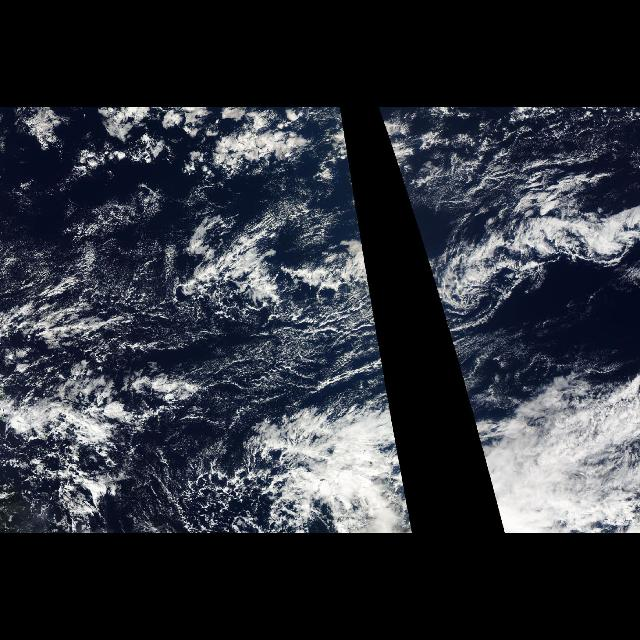Fish: (404, 188, 640, 336), (463, 382, 639, 532), (250, 382, 412, 532), (298, 188, 380, 336)
Flower: (9, 108, 307, 172)
Gravel: (63, 253, 359, 531)
Sugar: (3, 180, 397, 436), (378, 110, 636, 200), (440, 306, 602, 436), (312, 110, 356, 200)
